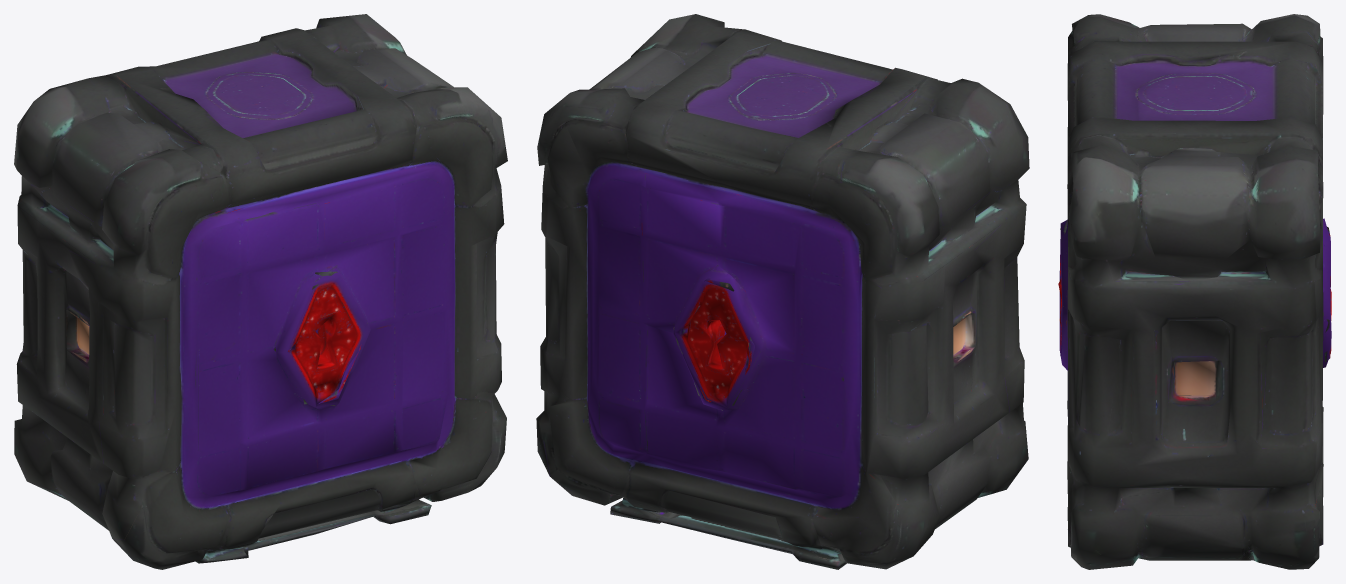
File: Meshy_AI_Crimson_Key_Vault_0401041436_texture.fbx
The picture shows the model from 3 angles, left to right: view 1: azimuth 30°, elevation 25°; view 2: azimuth 150°, elevation 25°; view 3: azimuth 270°, elevation 25°; orthographic projection.
Parts seen in each view (by area): view 1: Mesh1.0; view 2: Mesh1.0; view 3: Mesh1.0.
Part boxes in pixels (bbox=[...]): Mesh1.0: bbox=[14, 14, 507, 569]; Mesh1.0: bbox=[536, 14, 1029, 569]; Mesh1.0: bbox=[1058, 14, 1331, 569].
Size of the model in its own units: 188 by 192 by 114.
1 material, 1 textured.
